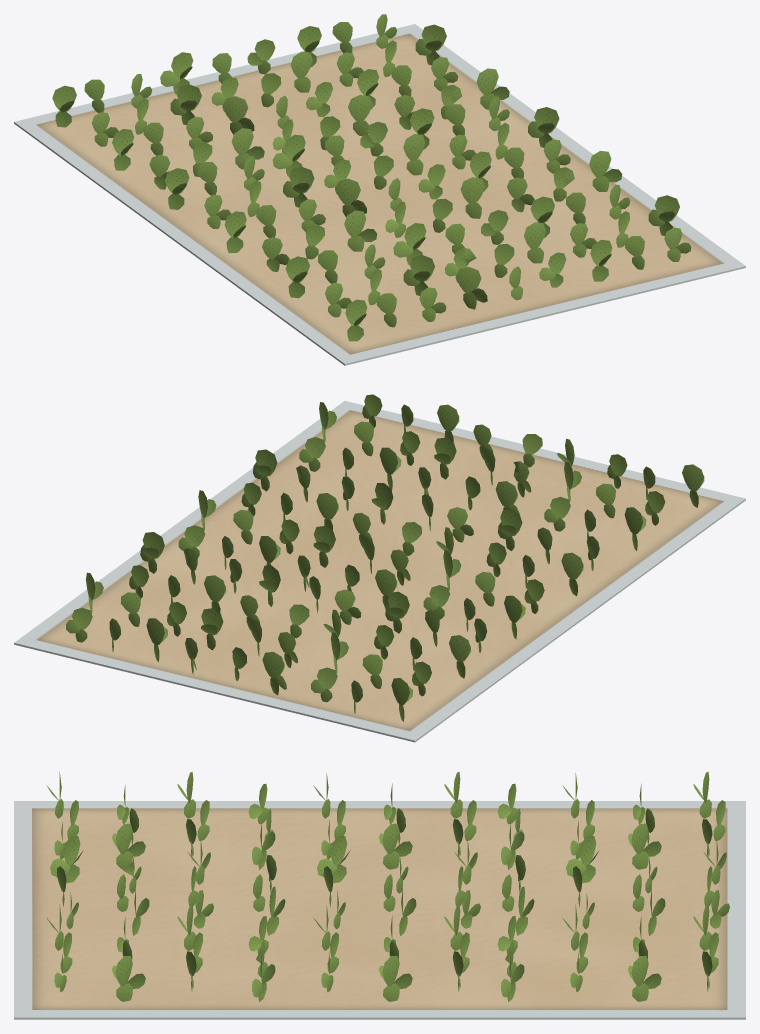
File: Cactus_Museu.fbx
The picture shows the model from 3 angles, top to bottom: view 1: azimuth 30°, elevation 25°; view 2: azimuth 150°, elevation 25°; view 3: azimuth 270°, elevation 25°; orthographic projection. The views are drawn at different scales.
Parts seen in each view (by area): view 1: Cactus; view 2: Cactus; view 3: Cactus.
Boxes of the visible parts, left/top/right/bottom form: Cactus: left=14, top=14, right=745, bottom=365; Cactus: left=14, top=394, right=745, bottom=742; Cactus: left=14, top=771, right=745, bottom=1019.
Size of the model in its own units: 561 by 57.89 by 801.
Materials: 1 (1 with a texture image).
